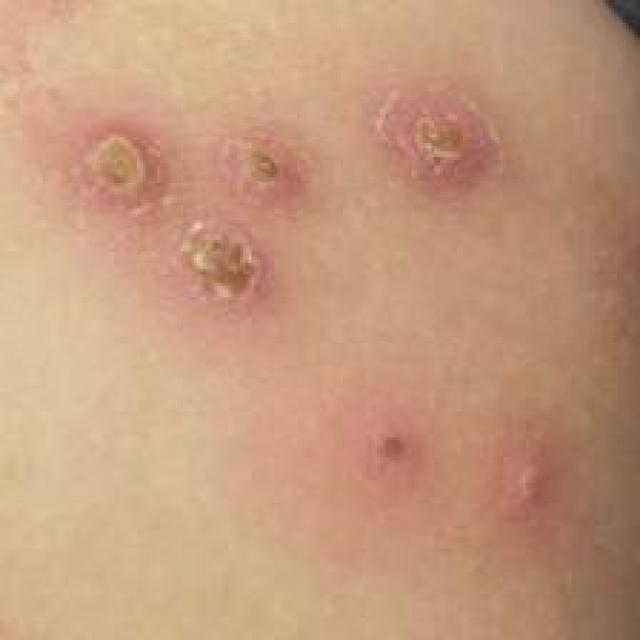others: (31, 18, 604, 640)
